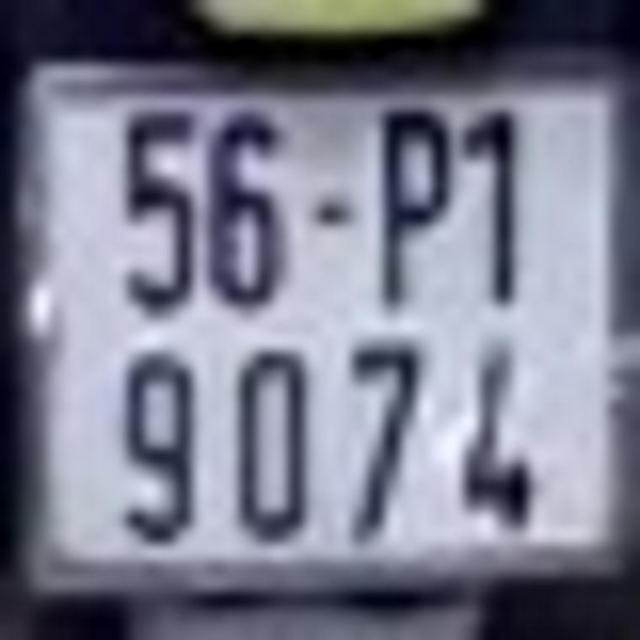0: (238, 342, 318, 548)
1: (464, 108, 524, 303)
4: (452, 332, 536, 527)
5: (121, 106, 199, 312)
6: (202, 103, 296, 314)
7: (333, 329, 431, 554)
9: (117, 346, 193, 545)
P: (373, 107, 456, 311)
